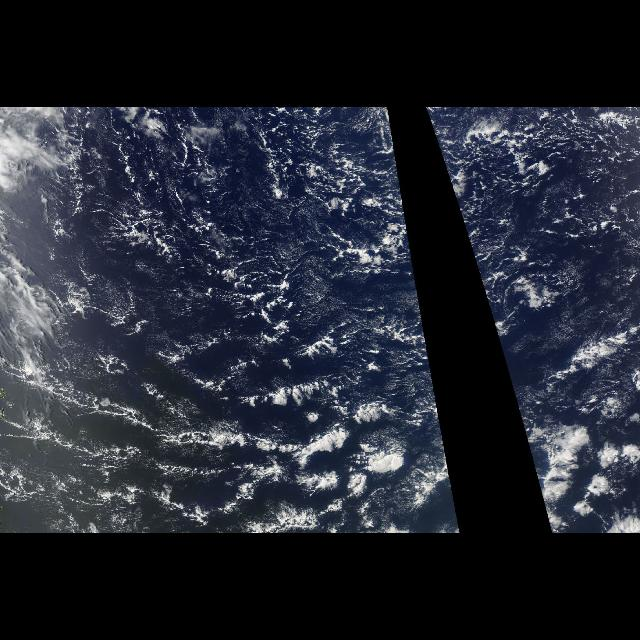Gravel: (118, 131, 430, 363), (432, 131, 444, 165)
